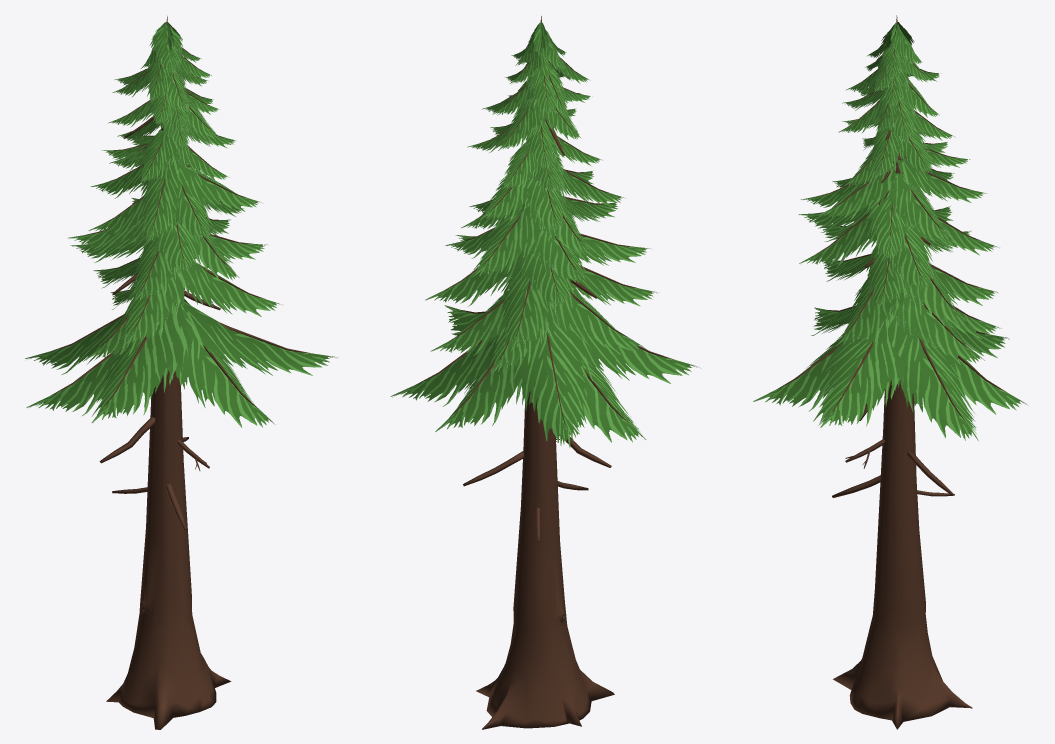
Rendered from pine_tree_02.fbx.
3 renders of one model, left to right at view 1: azimuth 30°, elevation 25°; view 2: azimuth 150°, elevation 25°; view 3: azimuth 270°, elevation 25°, orthographic.
Parts seen in each view (by area): view 1: pine_leaf, Trunk.001; view 2: pine_leaf, Trunk.001; view 3: pine_leaf, Trunk.001.
Part boxes in pixels (box(x1,y1,x2,y2)): pine_leaf: box(25, 22, 338, 427); Trunk.001: box(99, 16, 231, 729); pine_leaf: box(390, 22, 697, 447); Trunk.001: box(463, 16, 614, 729); pine_leaf: box(753, 22, 1027, 440); Trunk.001: box(832, 15, 972, 729).
Bounding box in the file's own units: 799 × 1896 × 748.
